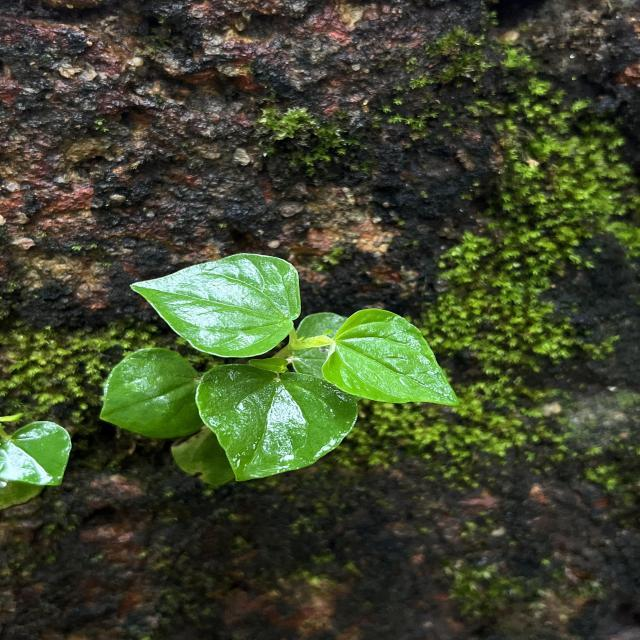Peperomia pellucida: (194, 362, 360, 483), (130, 252, 304, 361), (320, 308, 462, 408)
